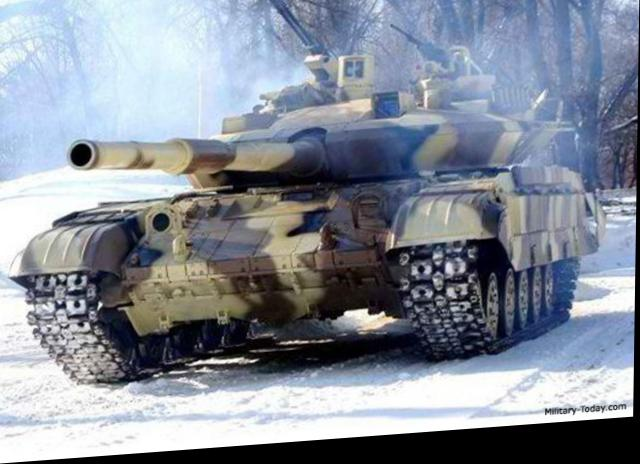tank: (28, 41, 599, 378)
